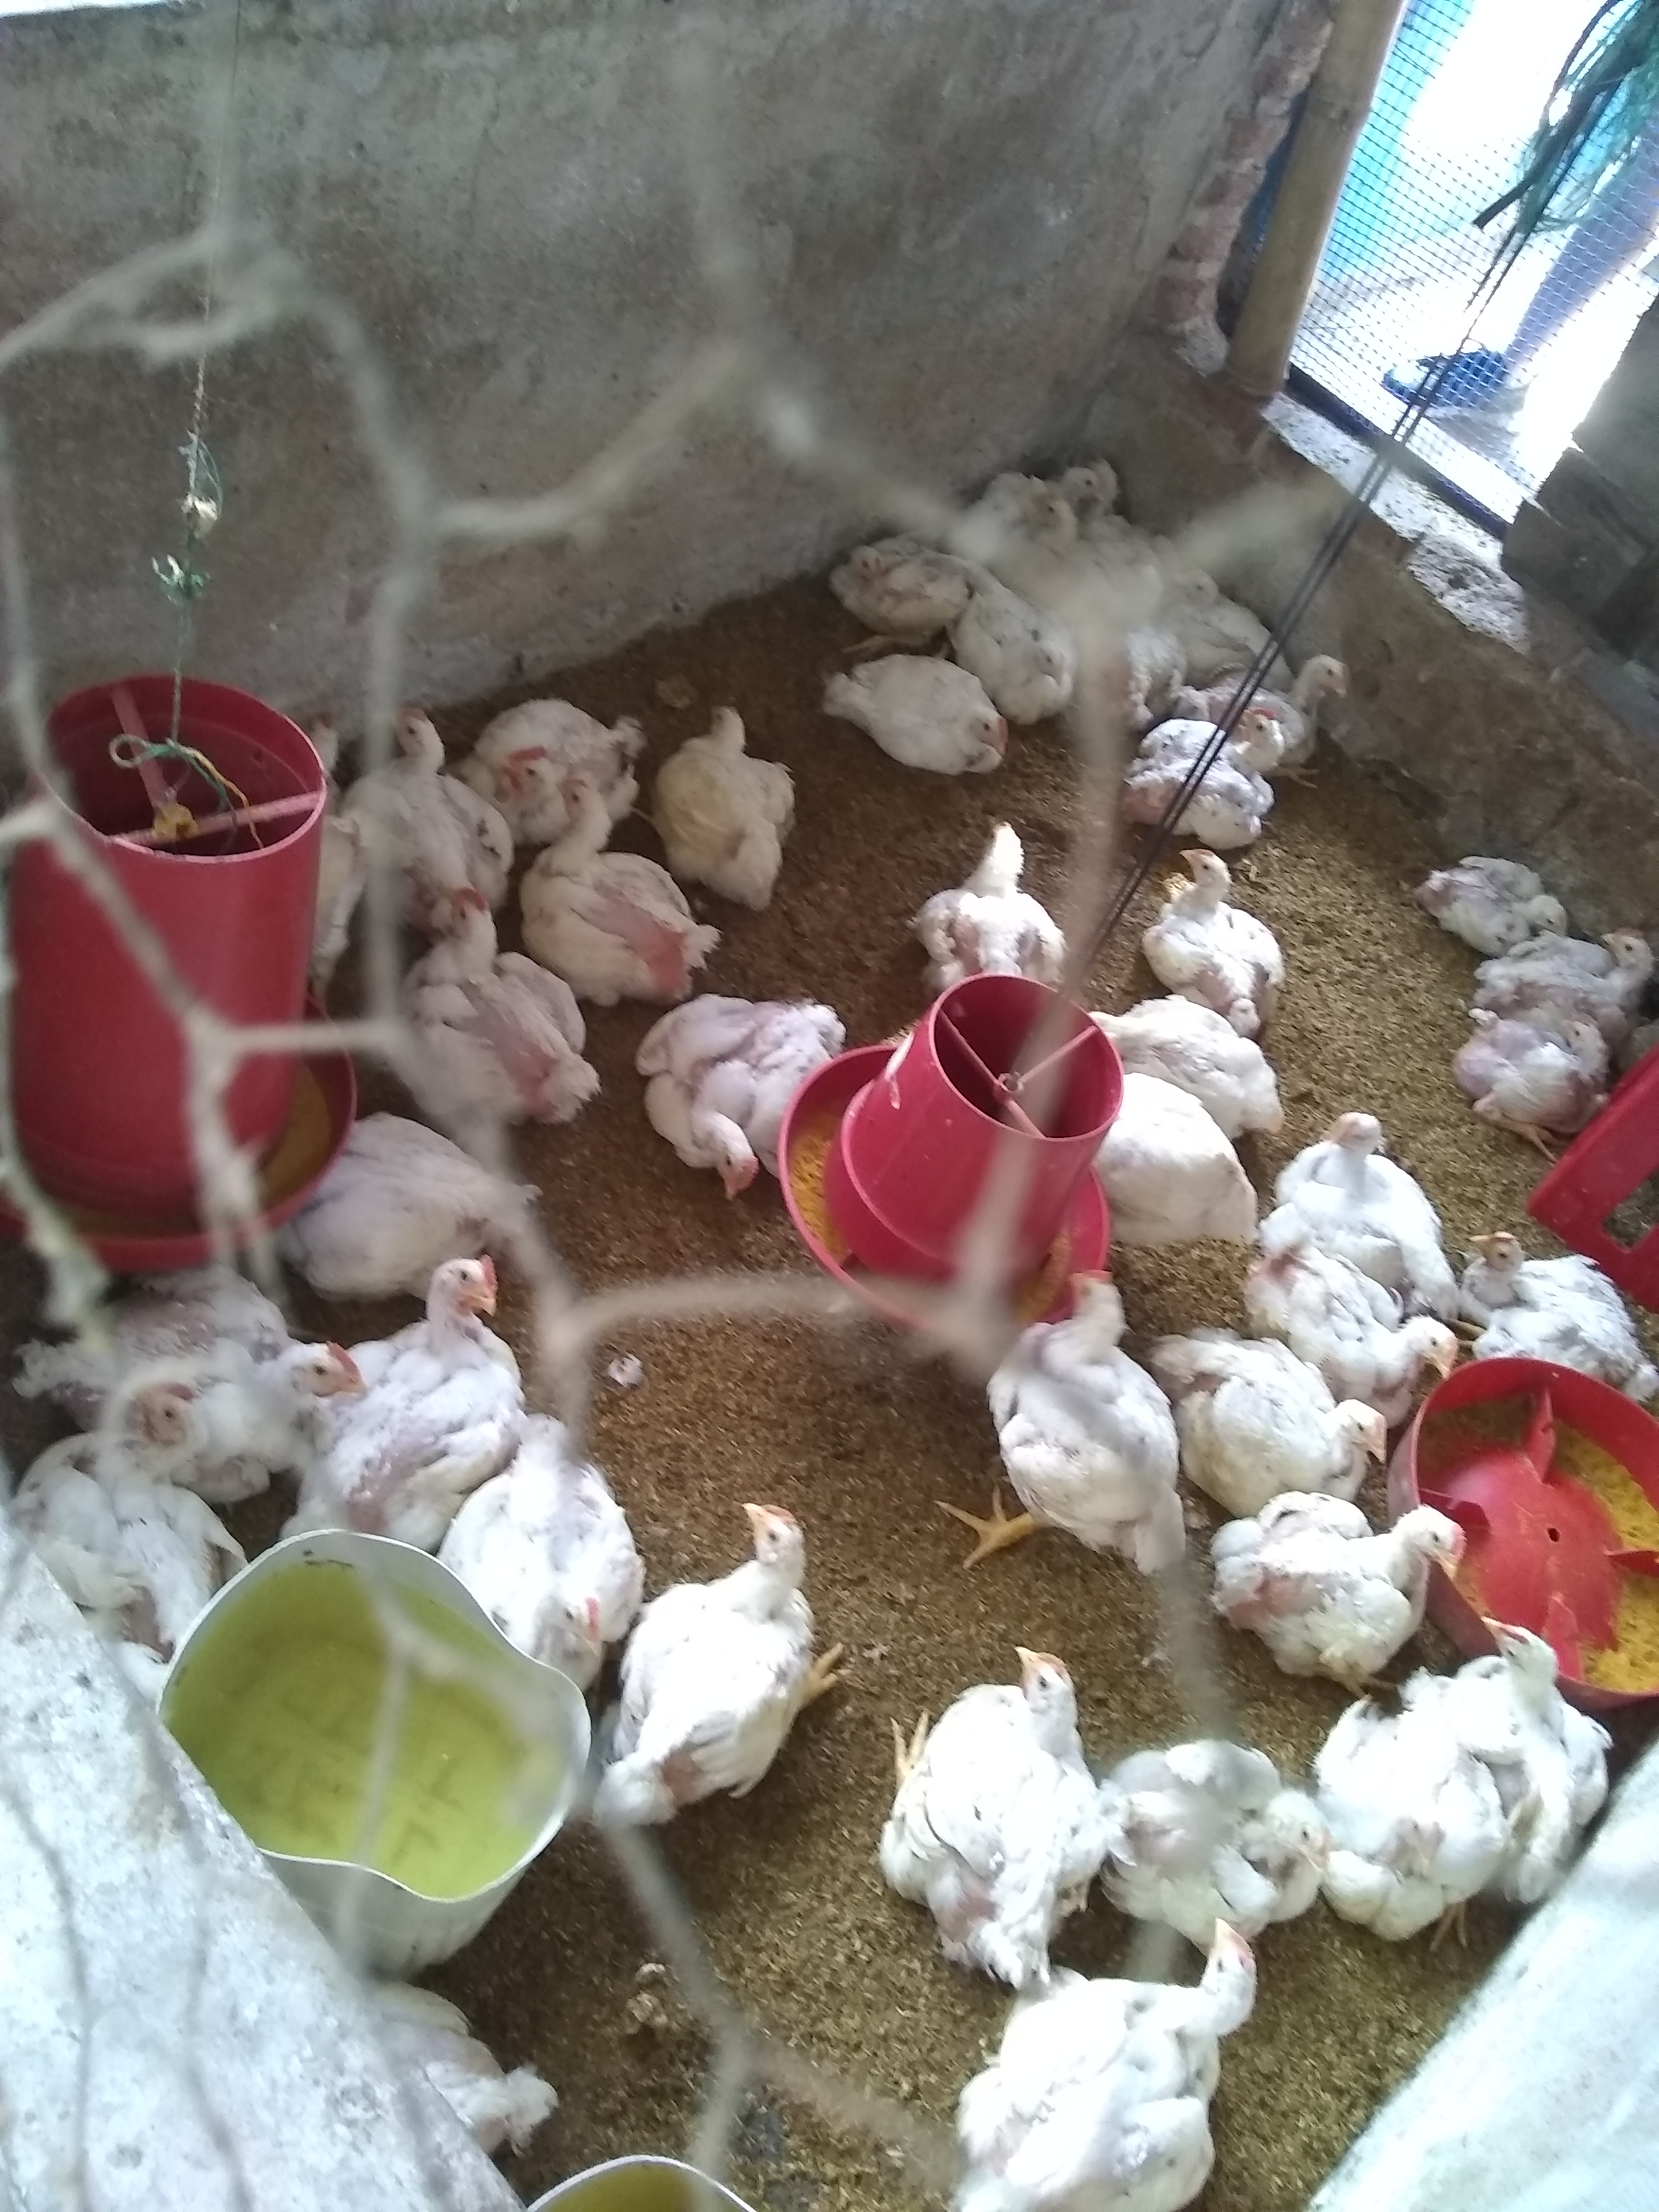Pollos: (606, 1484, 843, 1864), (965, 1932, 1286, 2212), (1039, 1679, 1324, 1970), (216, 1036, 540, 1284), (441, 1369, 680, 1688), (873, 1620, 1110, 1940), (965, 1242, 1178, 1581), (14, 1339, 237, 1649), (1202, 1446, 1466, 1669), (1131, 1305, 1405, 1510), (58, 1247, 378, 1421), (521, 786, 737, 1028), (1324, 1709, 1523, 1970), (413, 894, 598, 1153), (631, 991, 854, 1200), (373, 1907, 552, 2163), (1265, 1212, 1495, 1407), (1474, 1595, 1629, 1878), (1464, 1205, 1656, 1432), (1051, 1061, 1262, 1259), (340, 690, 512, 920), (394, 1256, 552, 1500), (885, 792, 1065, 998), (662, 688, 814, 913), (1087, 970, 1262, 1158), (1286, 1096, 1453, 1275), (469, 651, 634, 822), (1455, 1001, 1631, 1150), (1105, 695, 1307, 822), (831, 653, 1009, 794), (1154, 852, 1290, 1021), (810, 517, 964, 646), (958, 596, 1098, 735), (1413, 827, 1565, 939), (1178, 561, 1269, 650), (1588, 907, 1659, 1005), (1302, 637, 1358, 697), (1023, 498, 1072, 550), (1051, 462, 1101, 489)
